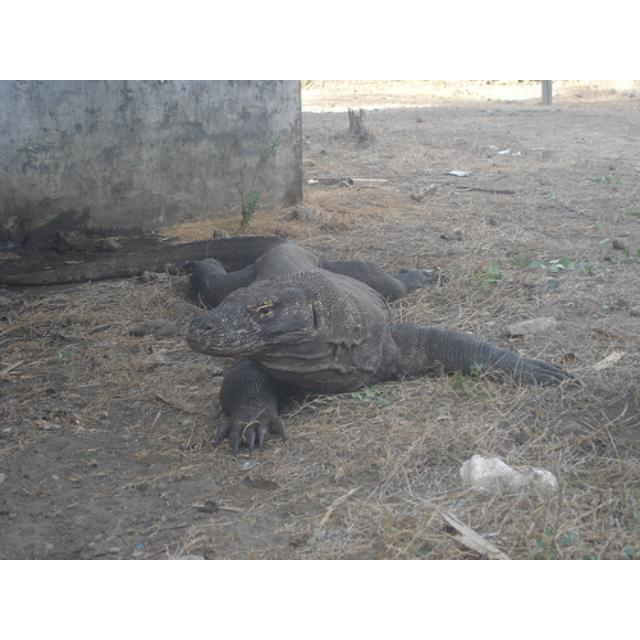KomodoDragon: (0, 234, 574, 458)
